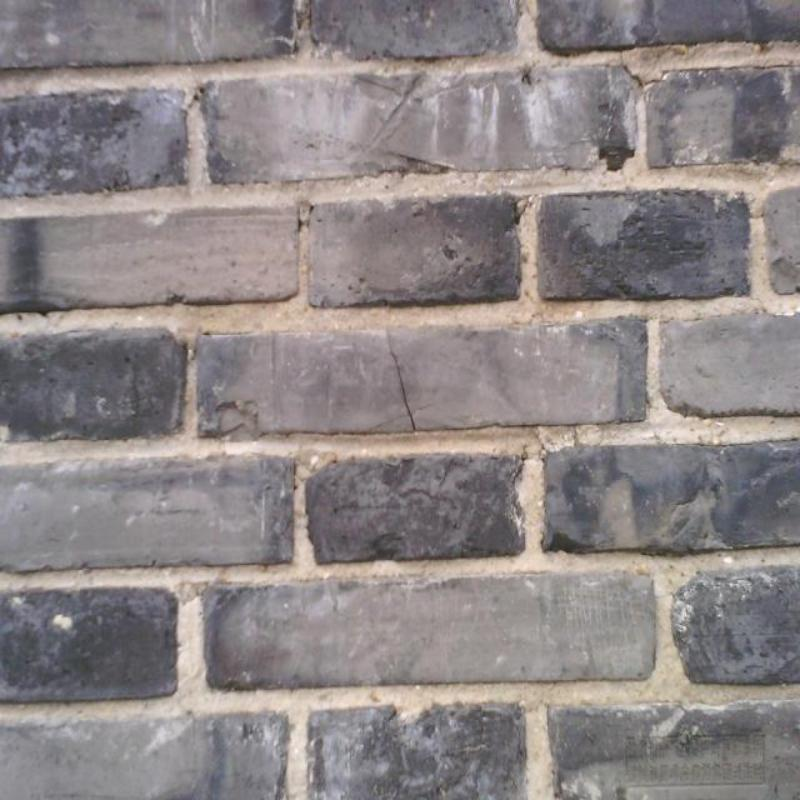crack: (391, 353, 418, 431)
